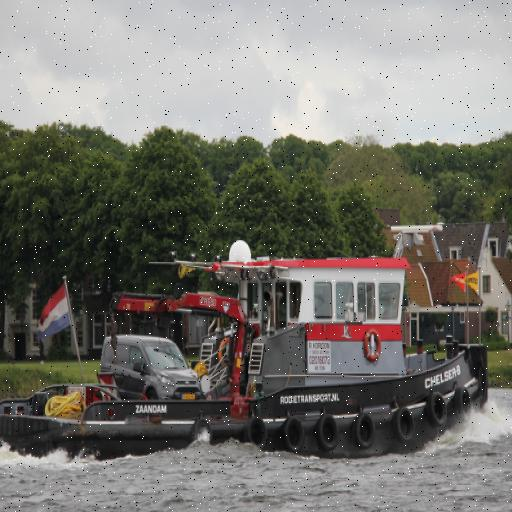tugboat: (1, 214, 502, 488)
